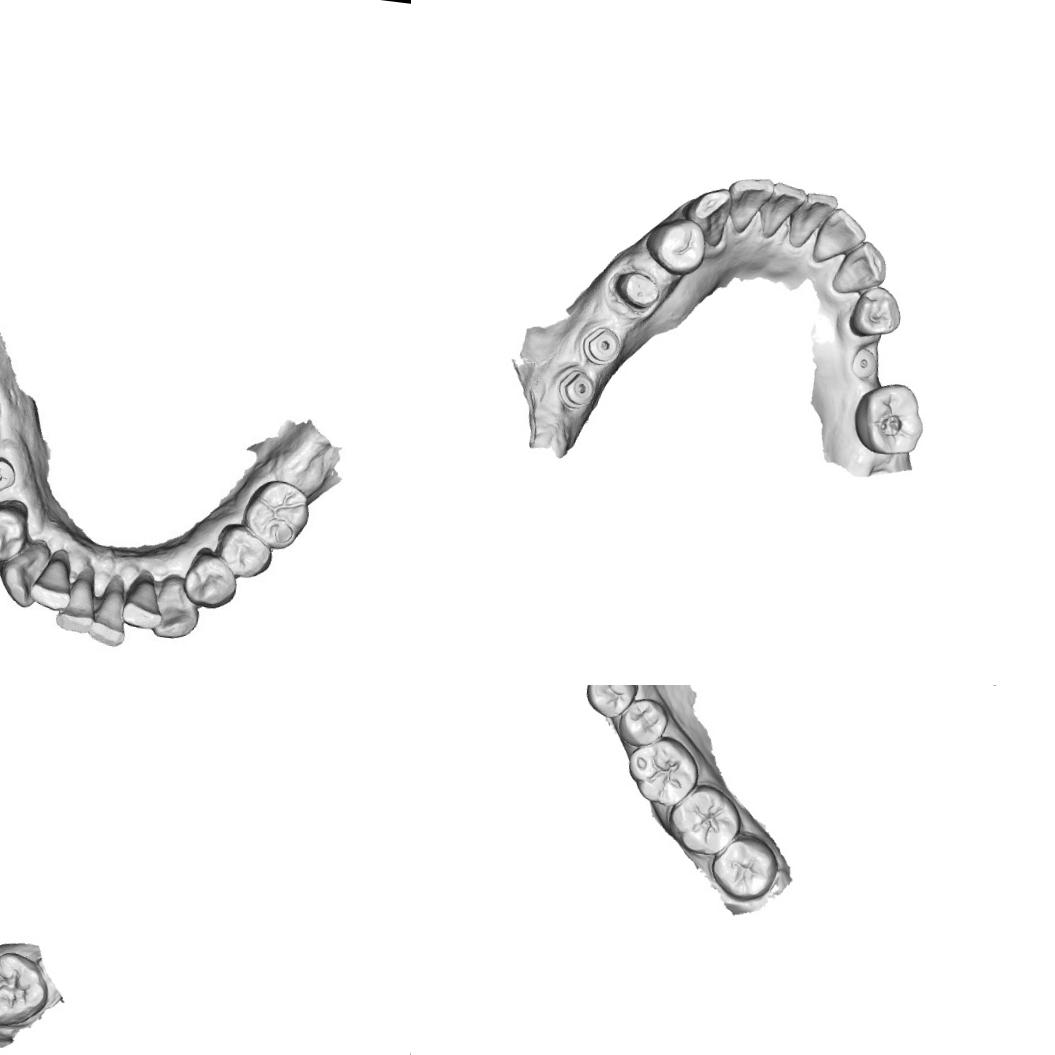canine: (830, 234, 894, 300), (680, 182, 734, 250), (151, 578, 200, 638), (0, 543, 47, 605)
crown: (610, 266, 665, 314)
implant: (552, 362, 599, 412), (578, 323, 624, 369), (846, 344, 881, 382)
implant_plus: (0, 449, 20, 497)
incisor: (809, 203, 872, 271), (53, 566, 105, 639), (757, 178, 810, 248), (786, 187, 841, 254), (724, 172, 777, 239), (29, 548, 78, 616), (90, 574, 132, 650), (120, 572, 165, 632)
molar: (848, 376, 932, 462), (664, 780, 746, 859), (624, 731, 704, 811), (708, 831, 782, 904), (244, 476, 314, 548), (0, 946, 53, 1031)
premolar: (640, 213, 712, 278), (178, 546, 242, 611), (845, 281, 907, 344), (216, 521, 274, 582), (615, 694, 671, 751), (581, 685, 641, 722), (0, 502, 27, 558)
